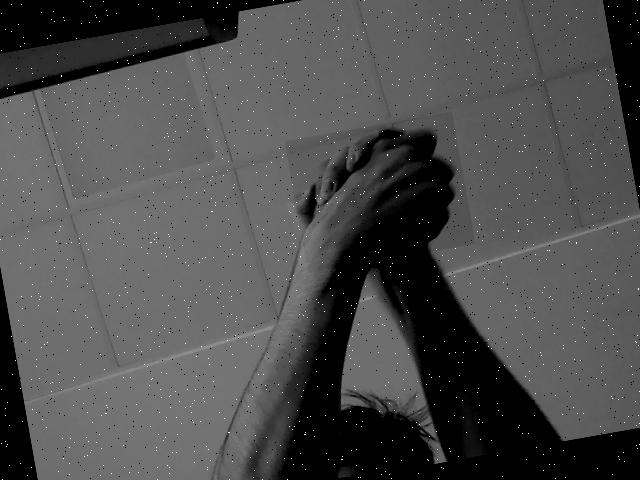friend: (284, 112, 475, 272)
